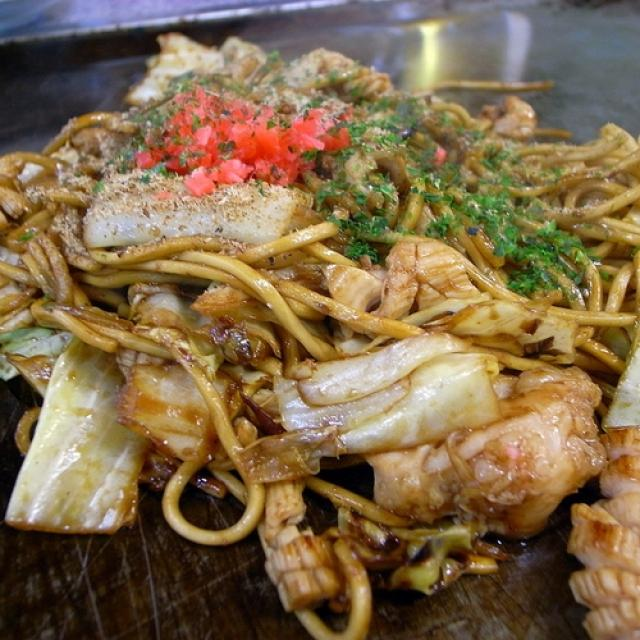面条主食: (4, 12, 634, 634)
